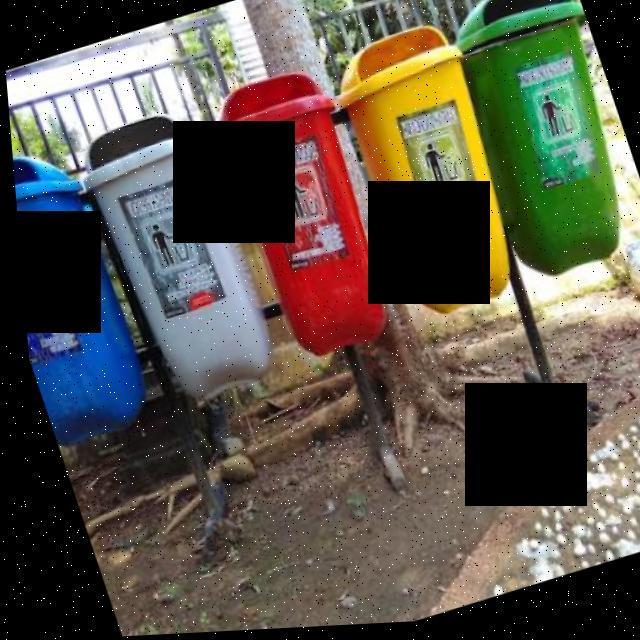bin: (57, 82, 297, 445), (182, 53, 413, 396), (310, 4, 536, 350), (432, 0, 640, 298), (7, 109, 164, 471)
